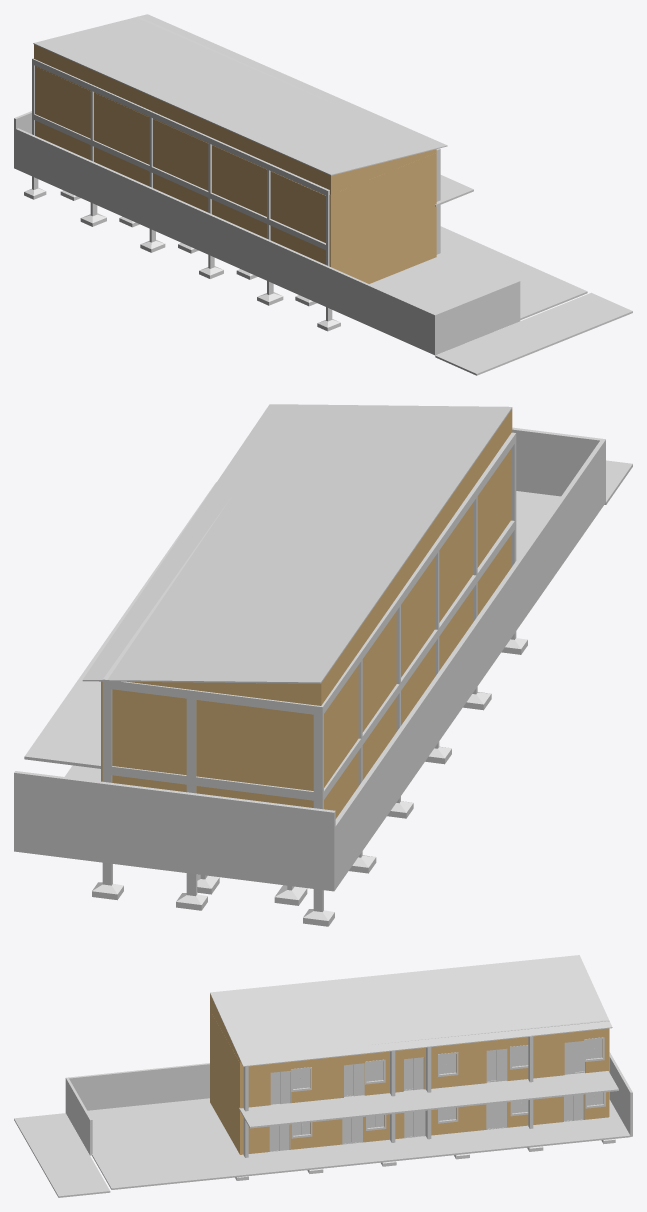
The picture shows the model from 3 angles, top to bottom: view 1: azimuth 30°, elevation 25°; view 2: azimuth 150°, elevation 25°; view 3: azimuth 270°, elevation 25°; orthographic projection. The views are drawn at different scales.
Visible parts, largest first — view 1: 2.6 Telhado, 2.1 Paredes Pav. Superior.019, Paredes Externas.003, Elementos Existentes.009, 2.1 Paredes Pav. Superior.014, Elementos Existentes.008, 1.1 Paredes Térreo.014, 1.1 Paredes Térreo.019, Paredes Externas, Paredes Externas.002, Elementos Existentes.010; view 2: 2.6 Telhado, Paredes Externas.001, 2.1 Paredes Pav. Superior.001, 2.1 Paredes Pav. Superior.019, Paredes Externas.003, 1.1 Paredes Térreo.019, Elementos Existentes.010, Paredes Externas, Paredes Externas.002, Elementos Existentes.009, 1.1 Paredes Térreo.001, 5.2 Pilares.002 (+6 smaller); view 3: 2.6 Telhado, Elementos Existentes.009, 2.1 Paredes Pav. Superior.015, Elementos Existentes.010, 1.1 Paredes Térreo.015, Elementos Existentes.008, Paredes Externas.002, Paredes Externas.003, 2.1 Paredes Pav. Superior.014, 1.1 Paredes Térreo.014, Paredes Externas, Paredes Externas.001 (+15 smaller).
Part boxes in pixels (x1=…): 2.6 Telhado: x1=33, y1=14, x2=447, y2=175; 2.1 Paredes Pav. Superior.019: x1=36, y1=45, x2=328, y2=242; Paredes Externas.003: x1=16, y1=128, x2=367, y2=324; Elementos Existentes.009: x1=369, y1=226, x2=587, y2=319; 2.1 Paredes Pav. Superior.014: x1=329, y1=150, x2=434, y2=247; Elementos Existentes.008: x1=435, y1=292, x2=632, y2=375; 1.1 Paredes Térreo.014: x1=329, y1=206, x2=434, y2=283; 1.1 Paredes Térreo.019: x1=36, y1=121, x2=325, y2=264; Paredes Externas: x1=435, y1=280, x2=520, y2=354; Paredes Externas.002: x1=366, y1=284, x2=437, y2=355; Elementos Existentes.010: x1=435, y1=175, x2=473, y2=206; 2.6 Telhado: x1=82, y1=404, x2=512, y2=683; Paredes Externas.001: x1=14, y1=771, x2=335, y2=891; 2.1 Paredes Pav. Superior.001: x1=112, y1=681, x2=322, y2=790; 2.1 Paredes Pav. Superior.019: x1=322, y1=411, x2=510, y2=787; Paredes Externas.003: x1=335, y1=502, x2=561, y2=888; 1.1 Paredes Térreo.019: x1=324, y1=535, x2=510, y2=818; Elementos Existentes.010: x1=24, y1=482, x2=216, y2=768; Paredes Externas: x1=512, y1=427, x2=600, y2=496; Paredes Externas.002: x1=557, y1=438, x2=605, y2=565; Elementos Existentes.009: x1=64, y1=491, x2=560, y2=781; 1.1 Paredes Térreo.001: x1=112, y1=775, x2=313, y2=807; 5.2 Pilares.002: x1=313, y1=705, x2=323, y2=792; 2.6 Telhado: x1=210, y1=955, x2=612, y2=1066; Elementos Existentes.009: x1=87, y1=1098, x2=630, y2=1189; 2.1 Paredes Pav. Superior.015: x1=239, y1=1028, x2=608, y2=1108; Elementos Existentes.010: x1=239, y1=1071, x2=618, y2=1128; 1.1 Paredes Térreo.015: x1=239, y1=1092, x2=608, y2=1154; Elementos Existentes.008: x1=14, y1=1113, x2=110, y2=1197; Paredes Externas.002: x1=65, y1=1069, x2=151, y2=1113; Paredes Externas.003: x1=151, y1=1063, x2=209, y2=1103; 2.1 Paredes Pav. Superior.014: x1=210, y1=994, x2=239, y2=1107; 1.1 Paredes Térreo.014: x1=210, y1=1057, x2=239, y2=1152; Paredes Externas: x1=66, y1=1078, x2=92, y2=1155; Paredes Externas.001: x1=609, y1=1052, x2=632, y2=1136.
Bounding box in the file's own units: 18.23 × 8.36 × 34.91.
